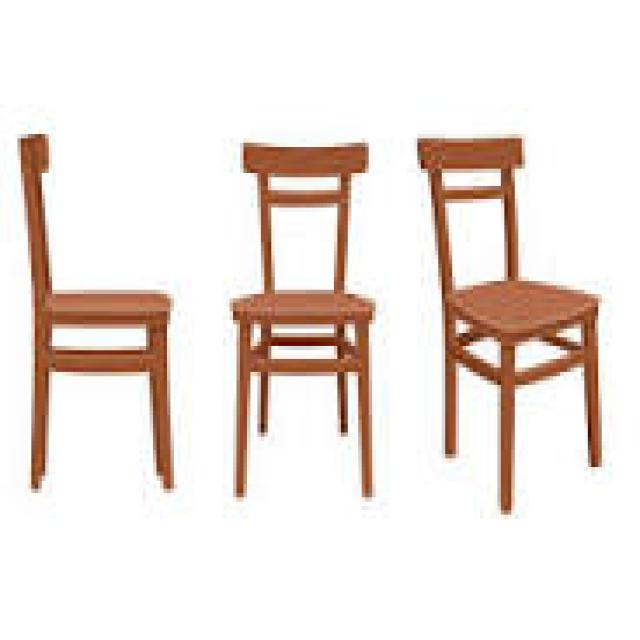chair: (416, 138, 599, 516), (19, 130, 177, 492), (229, 145, 375, 497)
